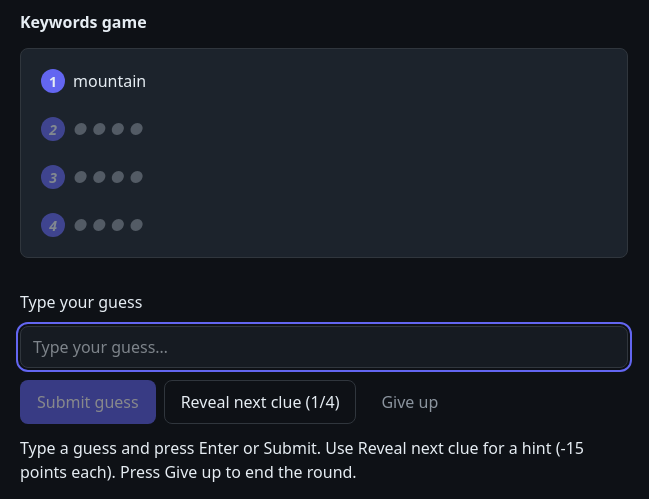
Test: KeywordsGame — reveal next clue › reveals the next clue on click and updates the counter
This screenshot has width=649, height=499.
Click the button "Reveal next clue (1/4)" at (260, 402), box left=164, top=380, right=356, bottom=424
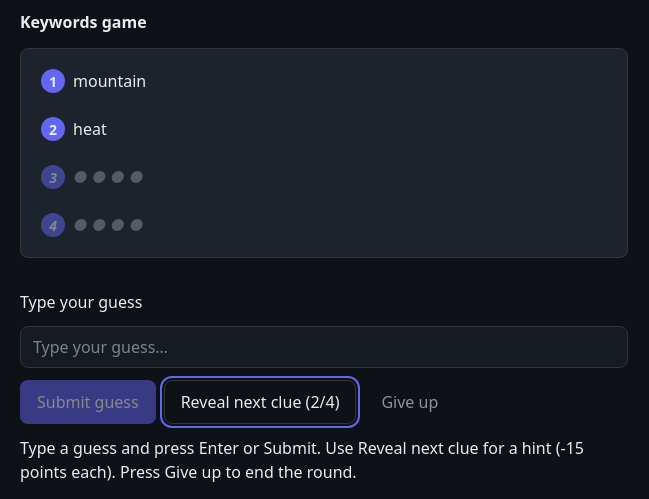
expect the text "heat" is shown: met, box left=73, top=117, right=107, bottom=141
expect the button "Reveal next clue (2/4)" is shown: met, box left=164, top=380, right=356, bottom=424
